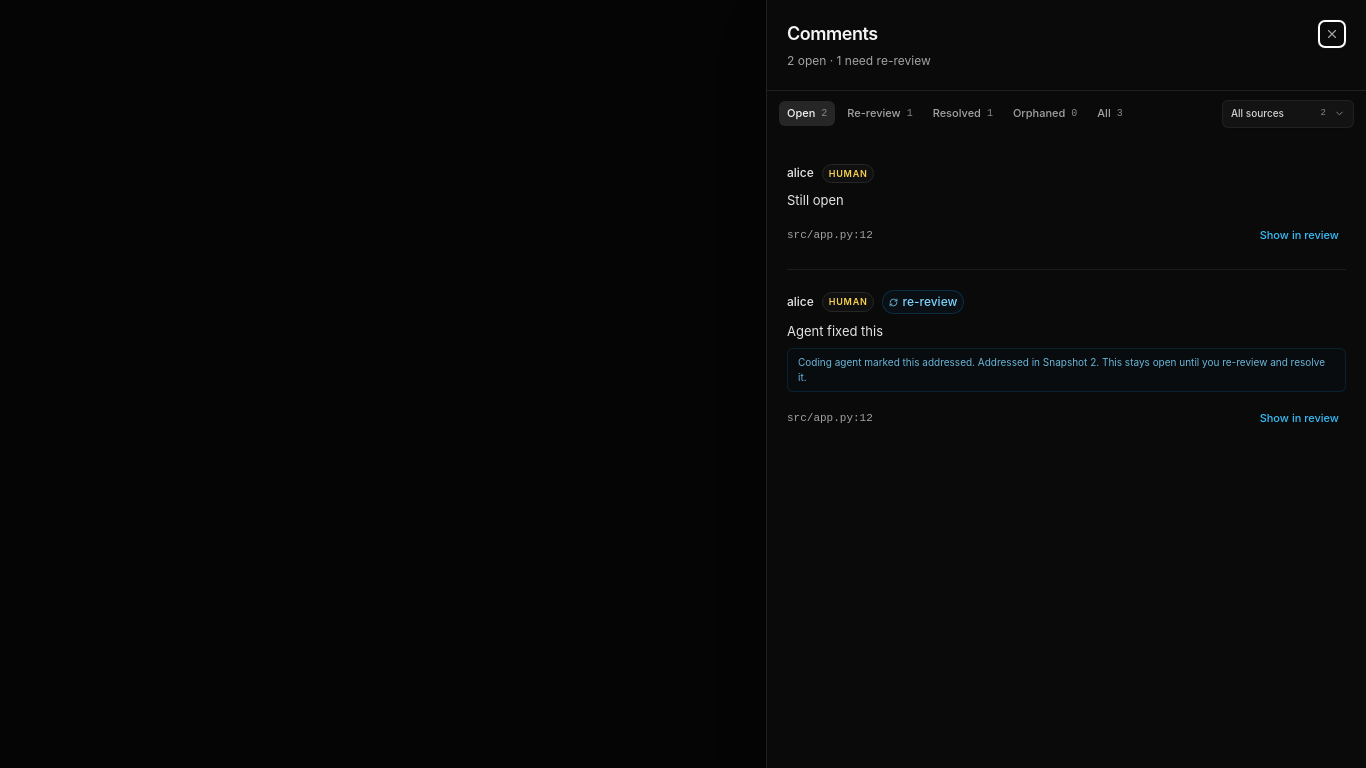
Test case: ReviewCommentsSheet › the Re-review tab holds only addressed comments that still await the human
Click the tab "Re-review 1" at (880, 113), box [839,101,921,126]
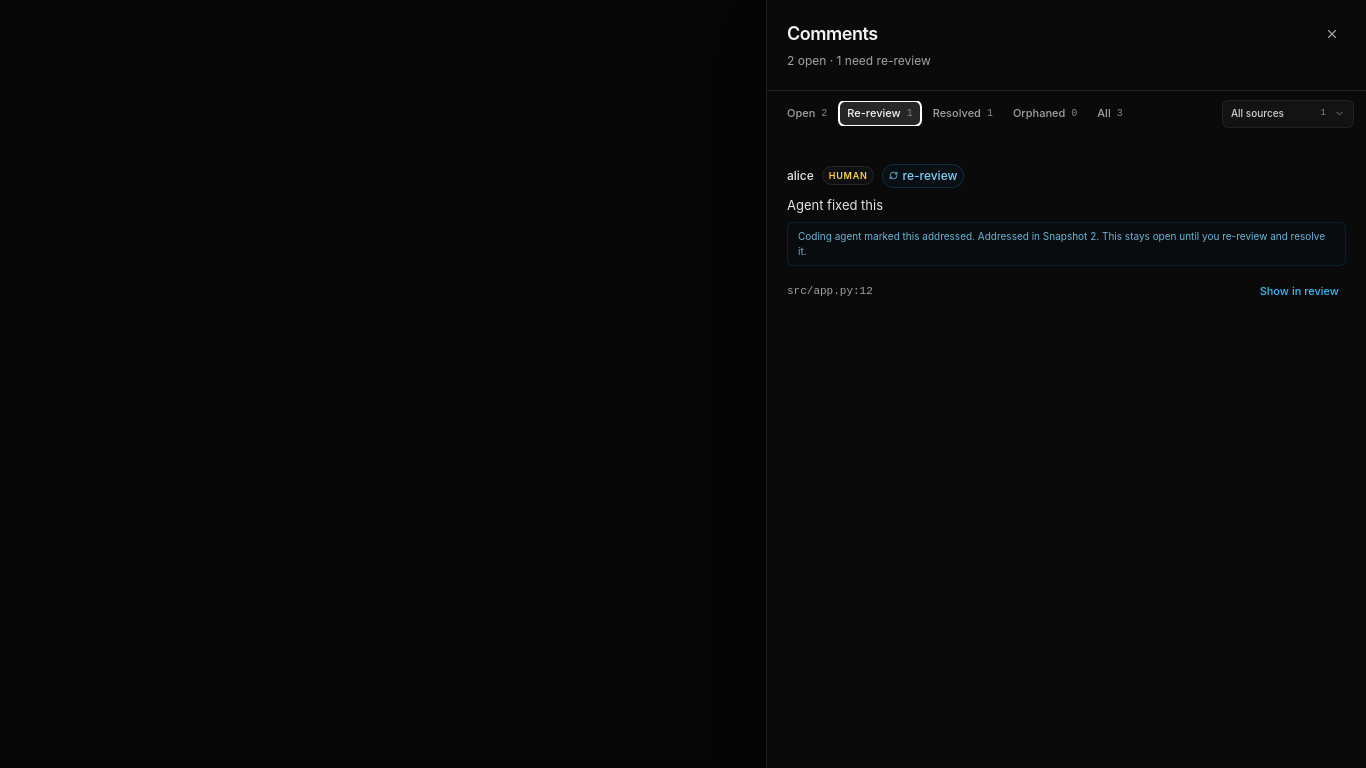
Expected: the text "Agent fixed this" is shown, [787,196,883,212]
Expected: the text "Still open" is gone
